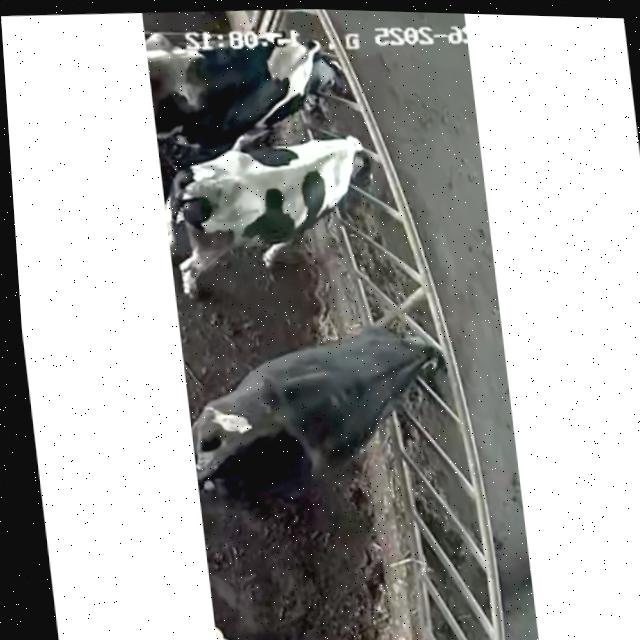eat: (249, 114, 421, 227), (330, 302, 487, 416), (226, 19, 397, 117)
